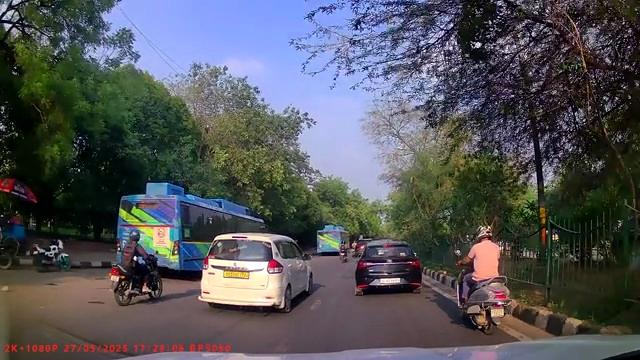motorcycle_with_helmet: (456, 223, 510, 336), (109, 228, 164, 307)
